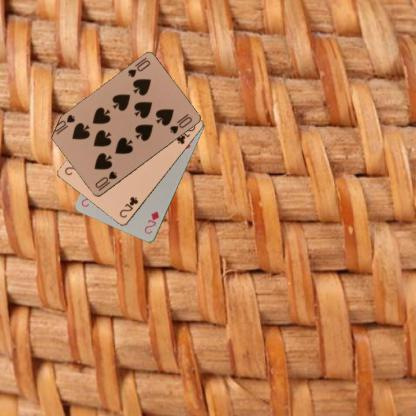10s: (92, 169, 118, 192), (125, 58, 151, 79)
2c: (117, 194, 139, 219)
2d: (142, 209, 160, 235)
